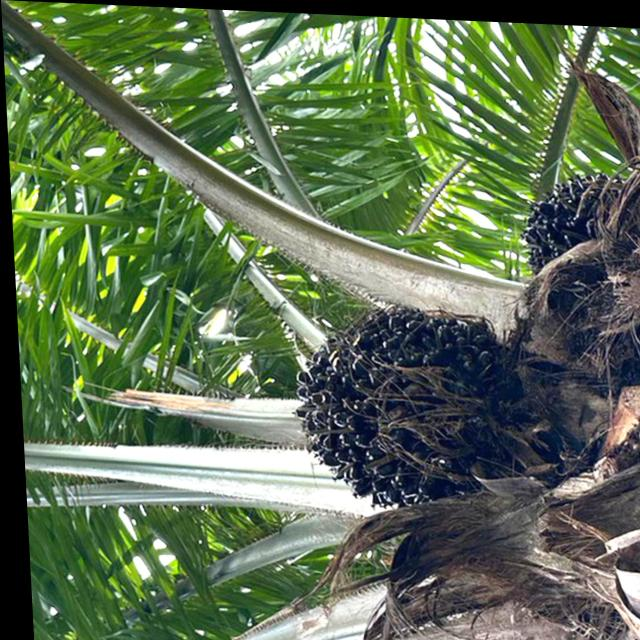unripe: (274, 286, 549, 525), (508, 156, 637, 285)
